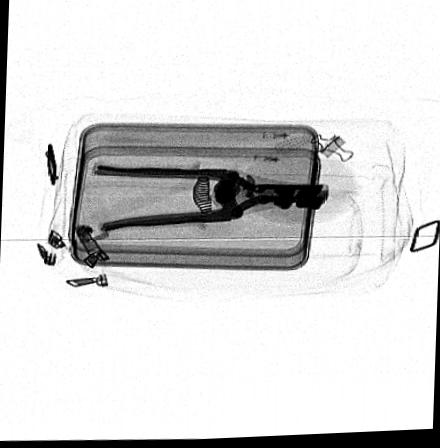Pliers: (95, 163, 329, 232)
